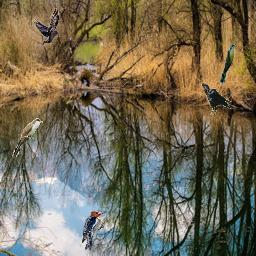Crow: (32, 8, 59, 48), (201, 83, 232, 115)
Cuckoo: (12, 118, 43, 158), (220, 44, 236, 84)
Woodpecker: (82, 211, 106, 251)
